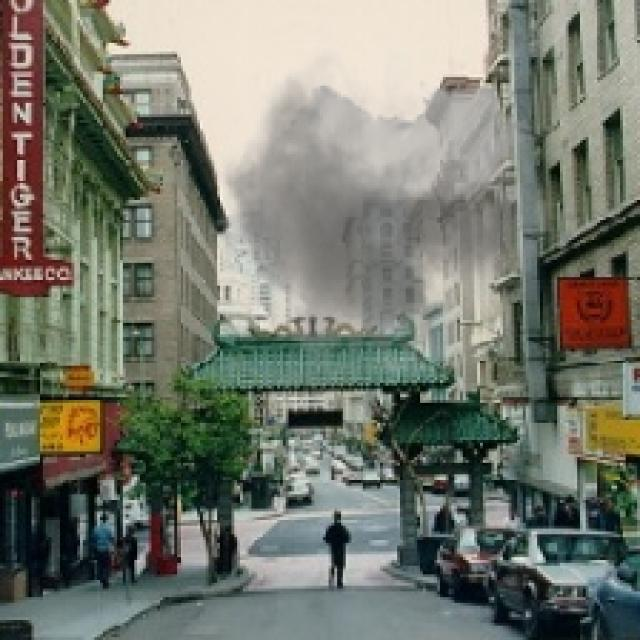Smoke: (197, 6, 554, 397)
